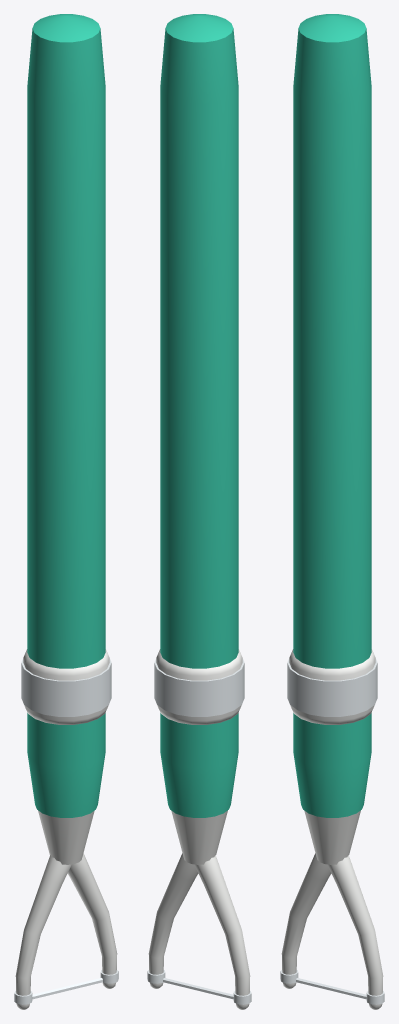
File: tool_floss.glb
The picture shows the model from 3 angles, left to right: view 1: azimuth 30°, elevation 25°; view 2: azimuth 150°, elevation 25°; view 3: azimuth 330°, elevation 25°; orthographic projection.
Parts seen in each view (by area): view 1: tool_floss; view 2: tool_floss; view 3: tool_floss.
Boxes of the visible parts, bbox=[...] form: tool_floss: bbox=[14, 14, 118, 1009]; tool_floss: bbox=[147, 14, 251, 1009]; tool_floss: bbox=[280, 14, 384, 1009].
Size of the model in its own units: 0.8931 by 8.28 by 0.69.
